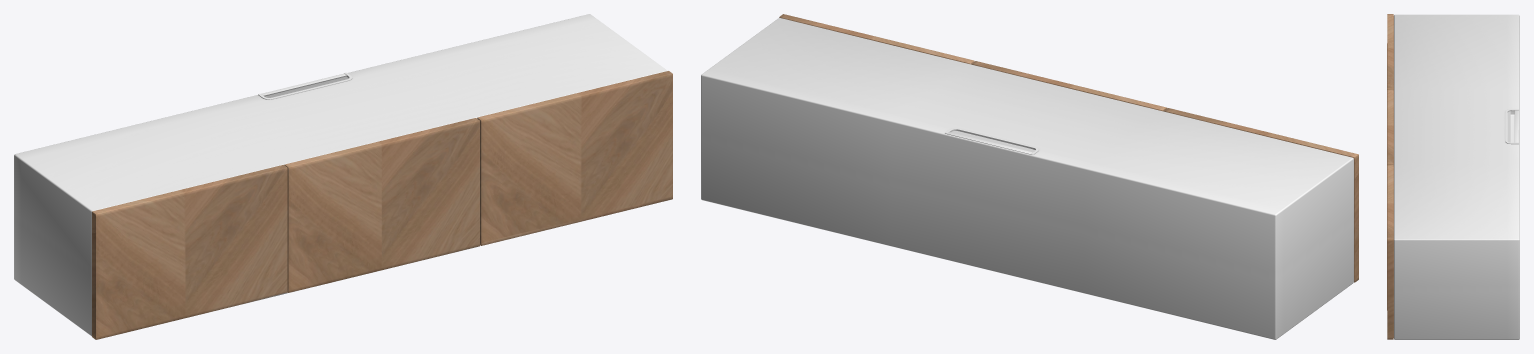
File: whiteHedeviken oak veneer.gltf
3 renders of one model, left to right at view 1: azimuth 30°, elevation 25°; view 2: azimuth 150°, elevation 25°; view 3: azimuth 270°, elevation 25°, orthographic. The views are drawn at different scales.
Visible parts, largest first — view 1: Tv Shelf_002; view 2: Tv Shelf_002; view 3: Tv Shelf_002.
Part boxes in pixels (x1=…): Tv Shelf_002: x1=14, y1=14, x2=672, y2=339; Tv Shelf_002: x1=701, y1=14, x2=1358, y2=339; Tv Shelf_002: x1=1387, y1=14, x2=1519, y2=339.
Bounding box in the file's own units: 1.81 × 0.3792 × 0.4496.
Materials: 1 (1 with a texture image).
